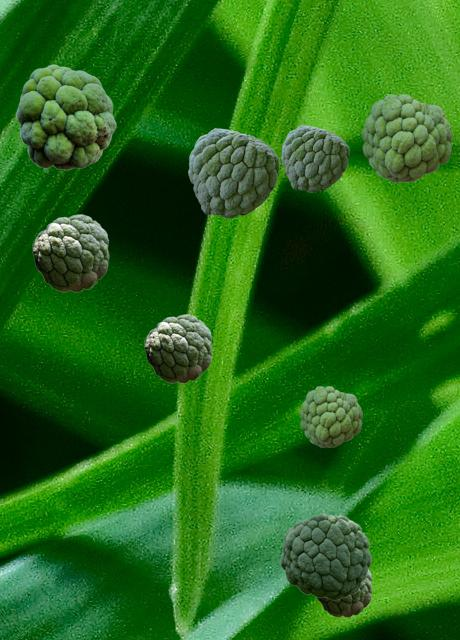atis: (16, 64, 115, 169), (188, 128, 278, 217), (361, 94, 451, 181), (280, 513, 370, 599), (32, 214, 108, 291), (144, 314, 211, 382), (281, 125, 348, 191), (299, 386, 361, 446), (316, 570, 371, 616)
